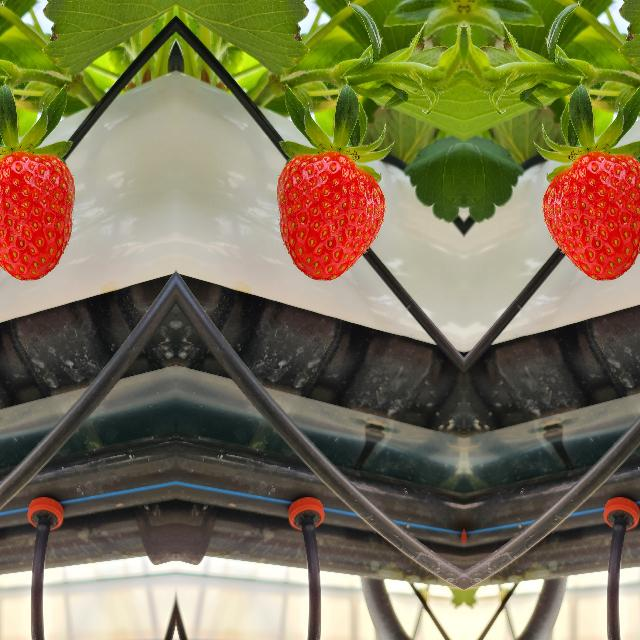Health_100: (274, 150, 386, 282), (540, 150, 640, 282), (0, 150, 75, 282)
